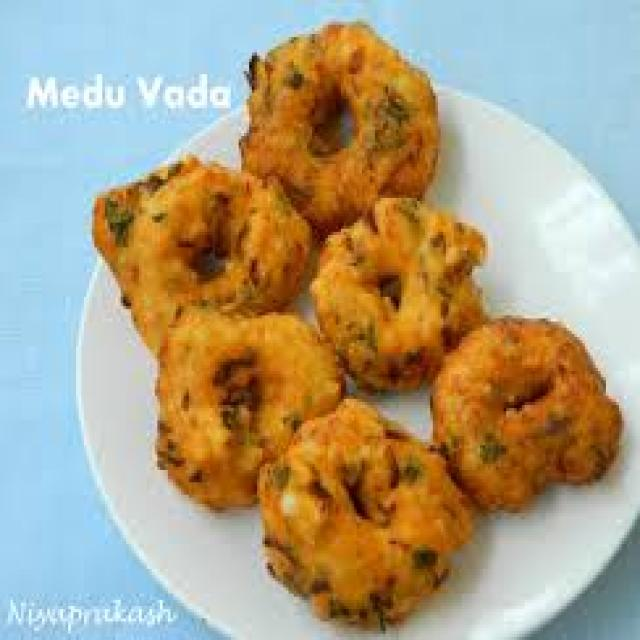MEDU VADA: (260, 399, 470, 625), (241, 22, 438, 235), (97, 155, 312, 349), (160, 309, 344, 507), (433, 322, 619, 510), (310, 198, 485, 386)
